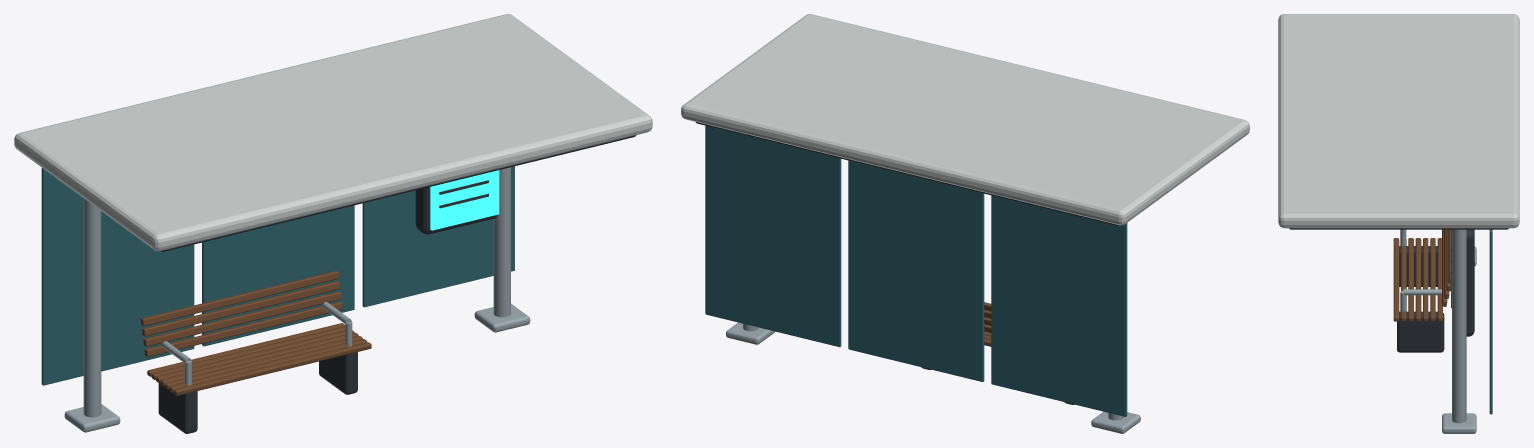
Rendered from TransitShelter.fbx.
3 renders of one model, left to right at view 1: azimuth 30°, elevation 25°; view 2: azimuth 150°, elevation 25°; view 3: azimuth 270°, elevation 25°, orthographic. The views are drawn at different scales.
Visible parts, largest first — view 1: TransitShelter; view 2: TransitShelter; view 3: TransitShelter.
Boxes of the visible parts, x1,y1,x2,y2 form: TransitShelter: (14, 14, 652, 433); TransitShelter: (681, 14, 1249, 433); TransitShelter: (1278, 14, 1519, 433).
Bounding box in the file's own units: 560 × 294 × 280.
